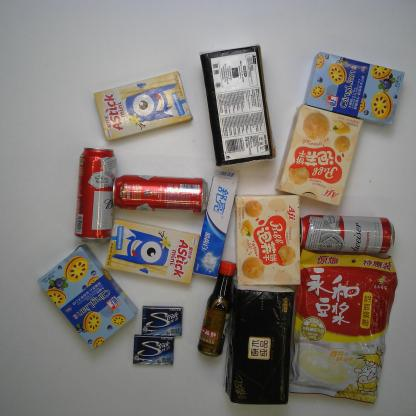Alcohol: (73, 147, 118, 244), (112, 172, 209, 215), (298, 213, 396, 254)
Dessert: (36, 243, 139, 351), (274, 104, 364, 207), (302, 51, 406, 127), (92, 70, 194, 142), (233, 193, 302, 287), (105, 218, 201, 284)
Gum: (140, 304, 184, 336), (132, 334, 175, 366)
Instant Drink: (287, 248, 399, 405)
Personal Hygiene: (192, 170, 240, 280)
Seasoner: (197, 260, 238, 358)
Tissue: (198, 43, 278, 168), (222, 284, 297, 406)
